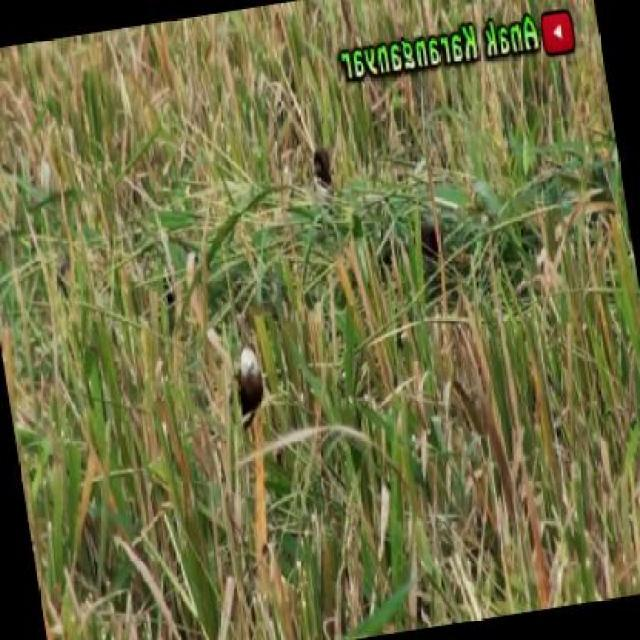Bird: (216, 339, 287, 424), (305, 129, 346, 193)
